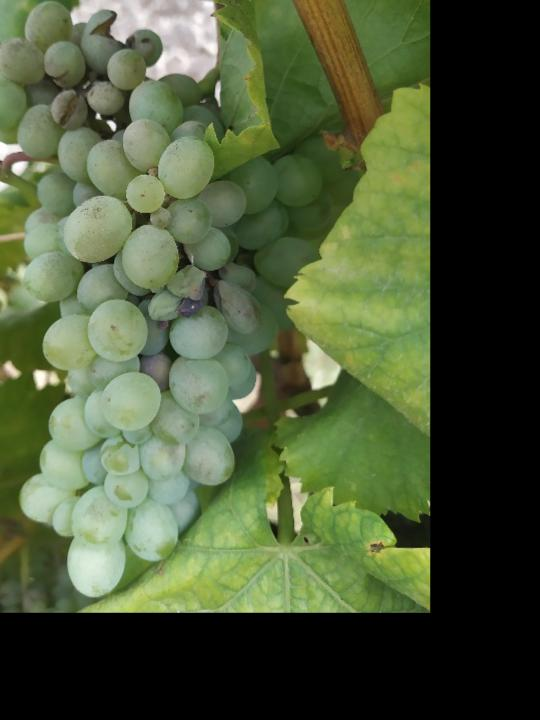grape: (0, 0, 326, 603)
